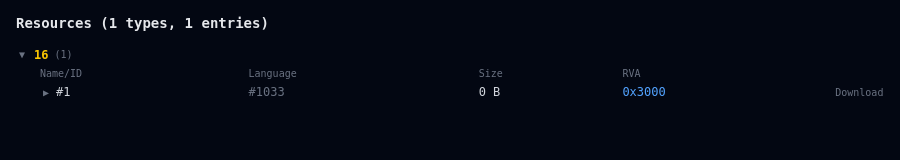
Test: ResourcesView — leaf previews › does not offer the VERSION arm to a STRING-typed resource, whatever it is named
Step 1. Click the button named "▶#1" → {"x": 55, "y": 92}, box [40, 84, 70, 100]
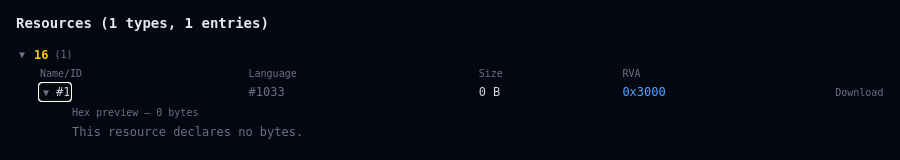
Now the text "This resource declares no bytes." is shown, box [72, 125, 303, 139]
